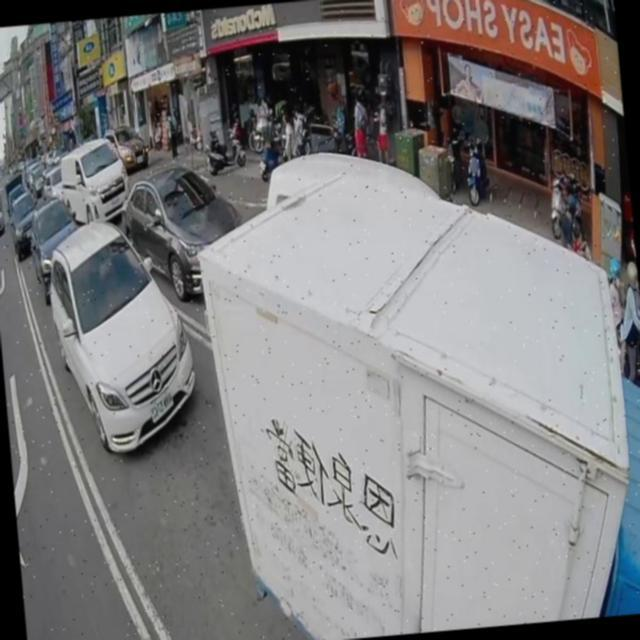person: (614, 257, 640, 384), (558, 186, 584, 251), (349, 90, 372, 159), (374, 96, 389, 164), (277, 114, 297, 164), (256, 94, 272, 152), (292, 110, 310, 158), (167, 110, 180, 160), (356, 77, 372, 110)
